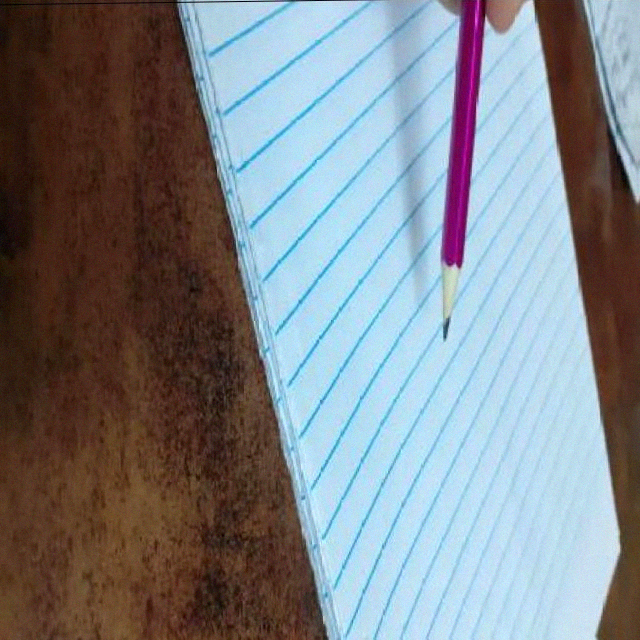pencil: (434, 264, 468, 343)
